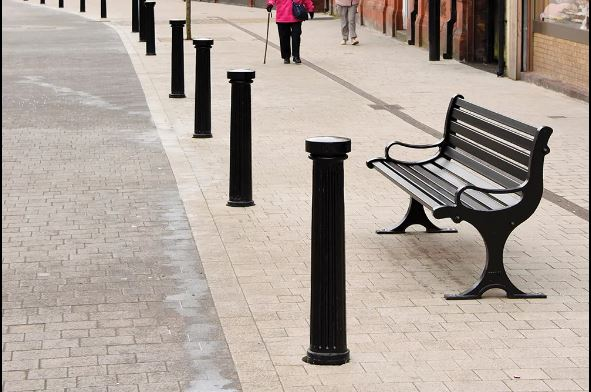bench: (368, 95, 553, 307)
bollard: (302, 137, 355, 365), (225, 70, 259, 206), (188, 36, 215, 138), (168, 20, 185, 100), (144, 5, 156, 60)
